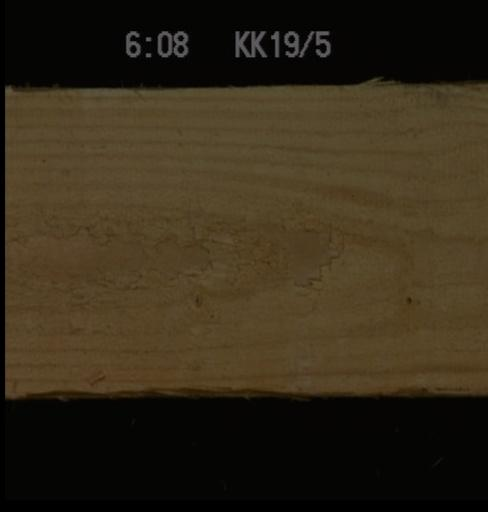small_knot: (188, 287, 207, 311), (400, 287, 417, 309)
wave: (15, 375, 312, 395), (370, 377, 469, 395)
